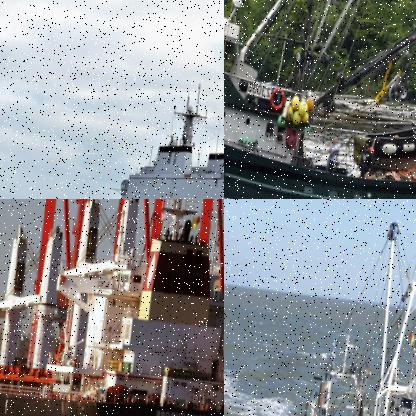Fishing Boat: (224, 0, 415, 198), (281, 199, 415, 415)
Merchant Ship: (0, 199, 223, 415)
Military Ship: (0, 59, 223, 198)
